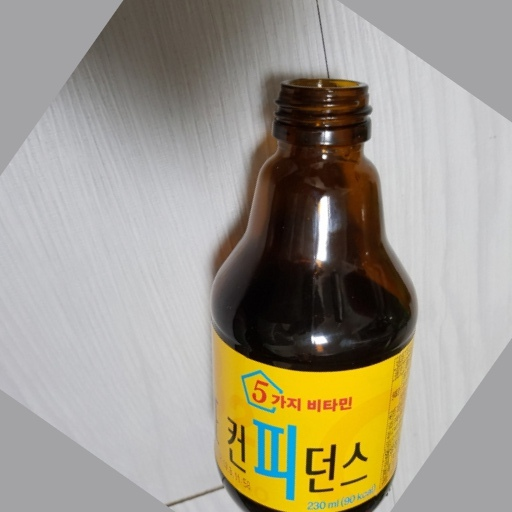Glass_3: (210, 72, 418, 512)
